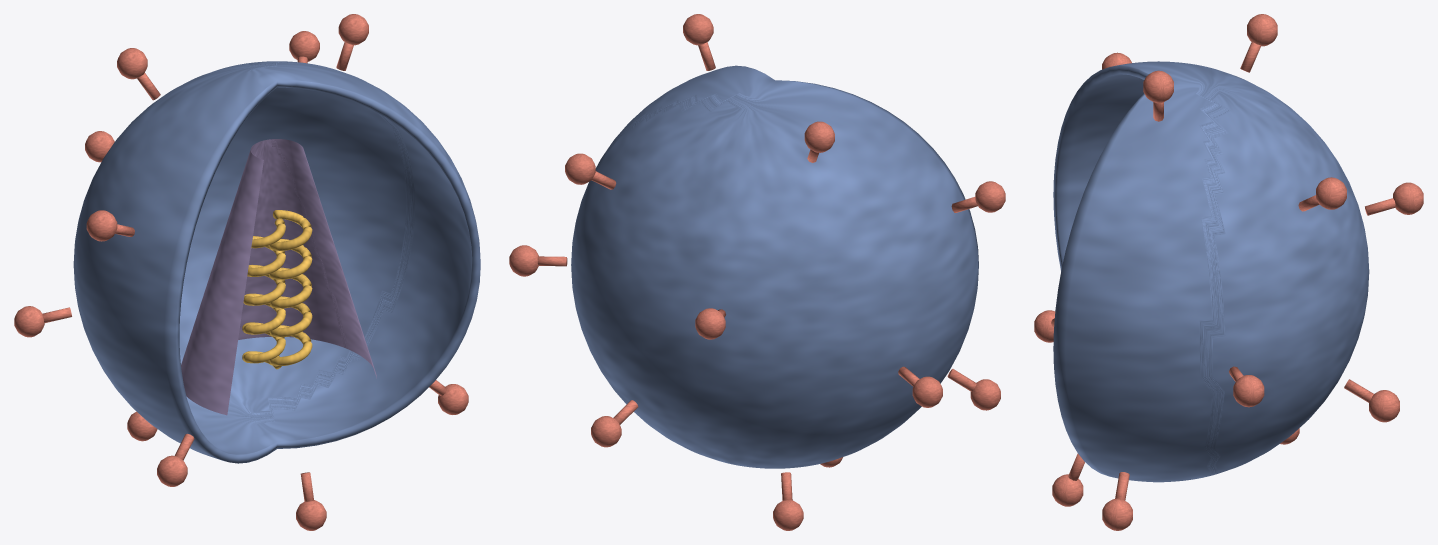
Rendered from cutaway.glb.
3 views of the same model, side by side, from view 1: azimuth 30°, elevation 25°; view 2: azimuth 150°, elevation 25°; view 3: azimuth 270°, elevation 25° (orthographic). The views are drawn at different scales.
Visible parts, largest first — view 1: envelope_mesh, capsideo_mesh, espiculas_mesh, genoma_mesh; view 2: envelope_mesh, espiculas_mesh; view 3: envelope_mesh, espiculas_mesh.
Part boxes in pixels (x1=…): envelope_mesh: x1=73, y1=61, x2=480, y2=463; capsideo_mesh: x1=181, y1=139, x2=376, y2=415; espiculas_mesh: x1=14, y1=14, x2=468, y2=530; genoma_mesh: x1=242, y1=210, x2=312, y2=369; envelope_mesh: x1=571, y1=65, x2=978, y2=468; espiculas_mesh: x1=509, y1=14, x2=1005, y2=530; envelope_mesh: x1=1053, y1=61, x2=1369, y2=482; espiculas_mesh: x1=1034, y1=14, x2=1423, y2=530.
Bounding box in the file's own units: 2.46 × 2.5 × 1.85.
Materials: 4 (4 with a texture image).
